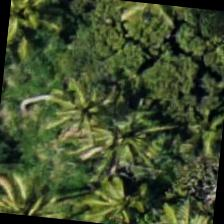Kelapa_Sawit: (37, 60, 136, 159), (63, 157, 161, 223), (0, 163, 70, 219), (5, 0, 62, 68)
